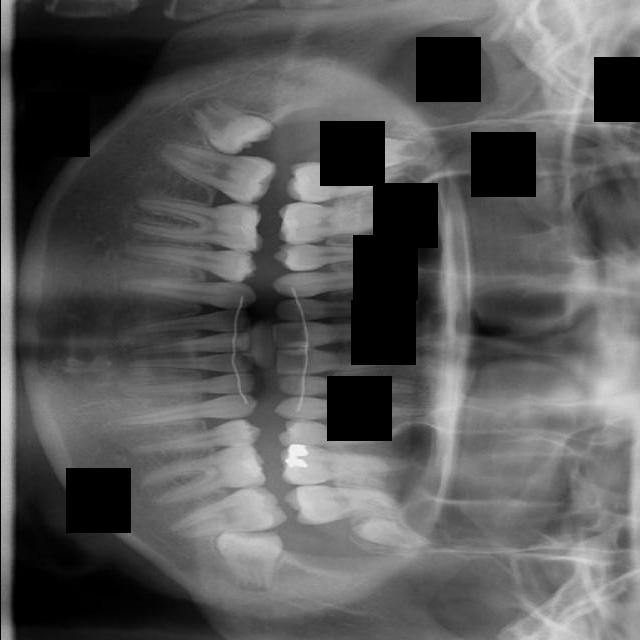3M ESPE Implant: (349, 130, 431, 173)
52: (283, 442, 309, 469)
73: (46, 590, 65, 602)
BioHorizons Implant: (281, 478, 405, 527)
BioLife Implant: (348, 510, 432, 556)
Biomet 3i Implant: (212, 529, 281, 593)
Blue Sky Bio Implant: (165, 482, 287, 541)
Caries: (285, 161, 404, 202)
Implant: (149, 137, 280, 209)
Keystone Dental Implant: (175, 86, 277, 170)
